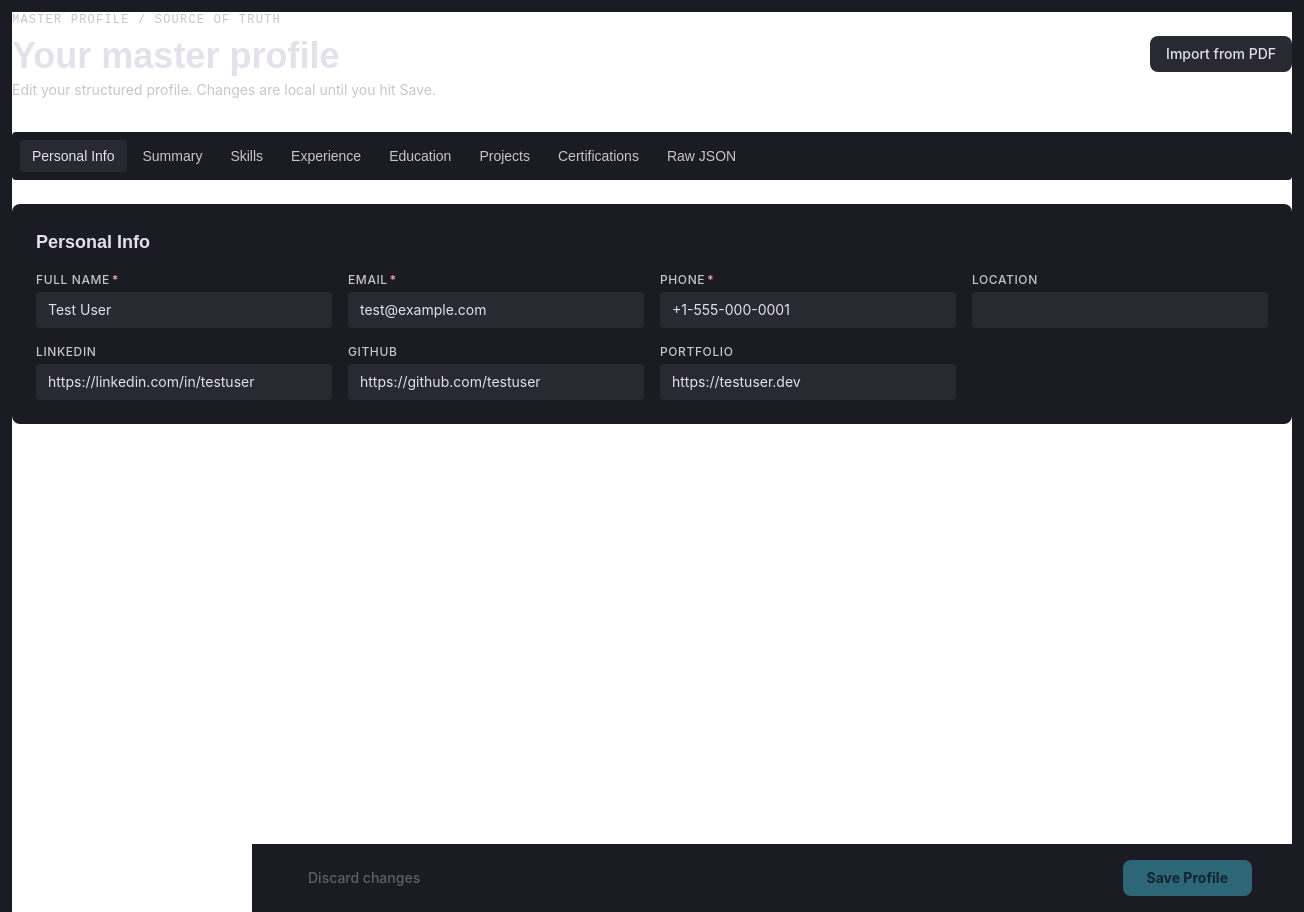
it: ProfilePage › renders Experience tab with split date inputs
Click the tab "Experience".
click(326, 156)  # box [279,140,373,172]
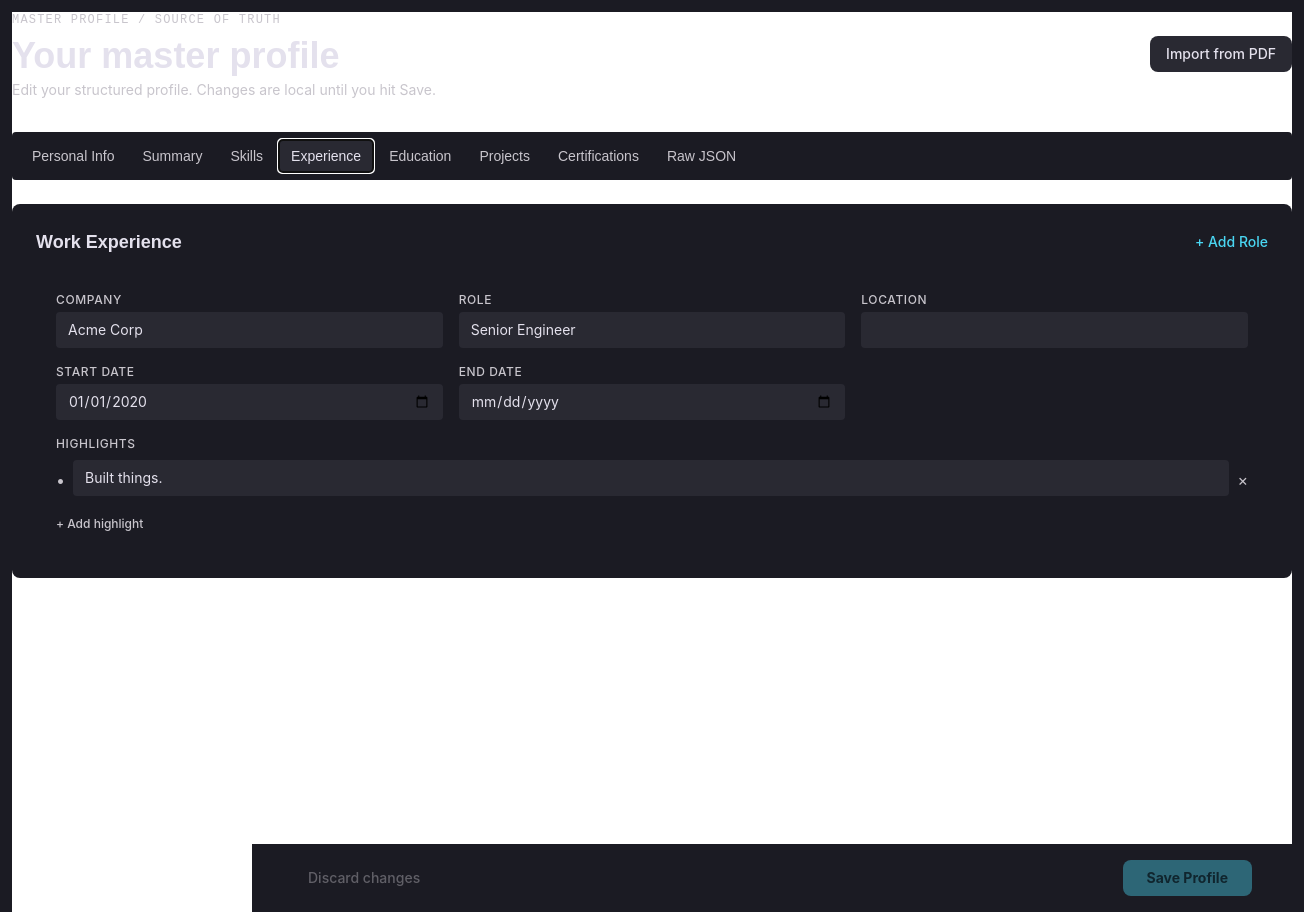
Expected: the date field named "start date" is shown, [56,384,443,420]
Expected: the date field named "end date" is shown, [459,384,845,420]
